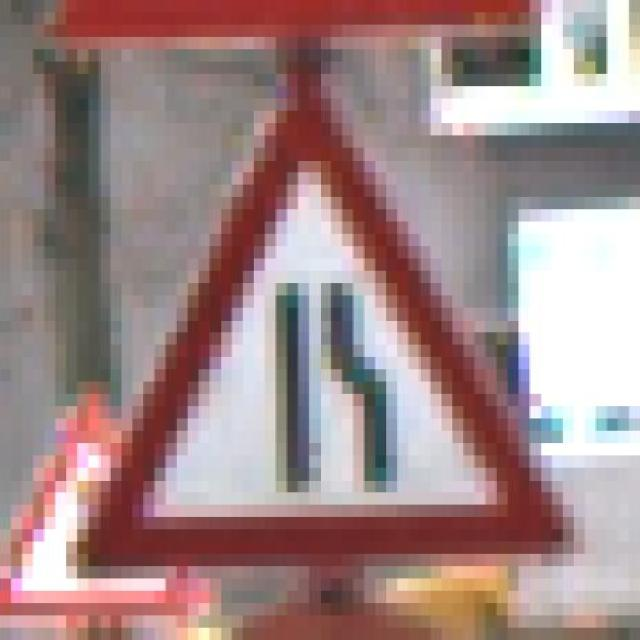-Road narrows on right: (77, 49, 585, 566)
